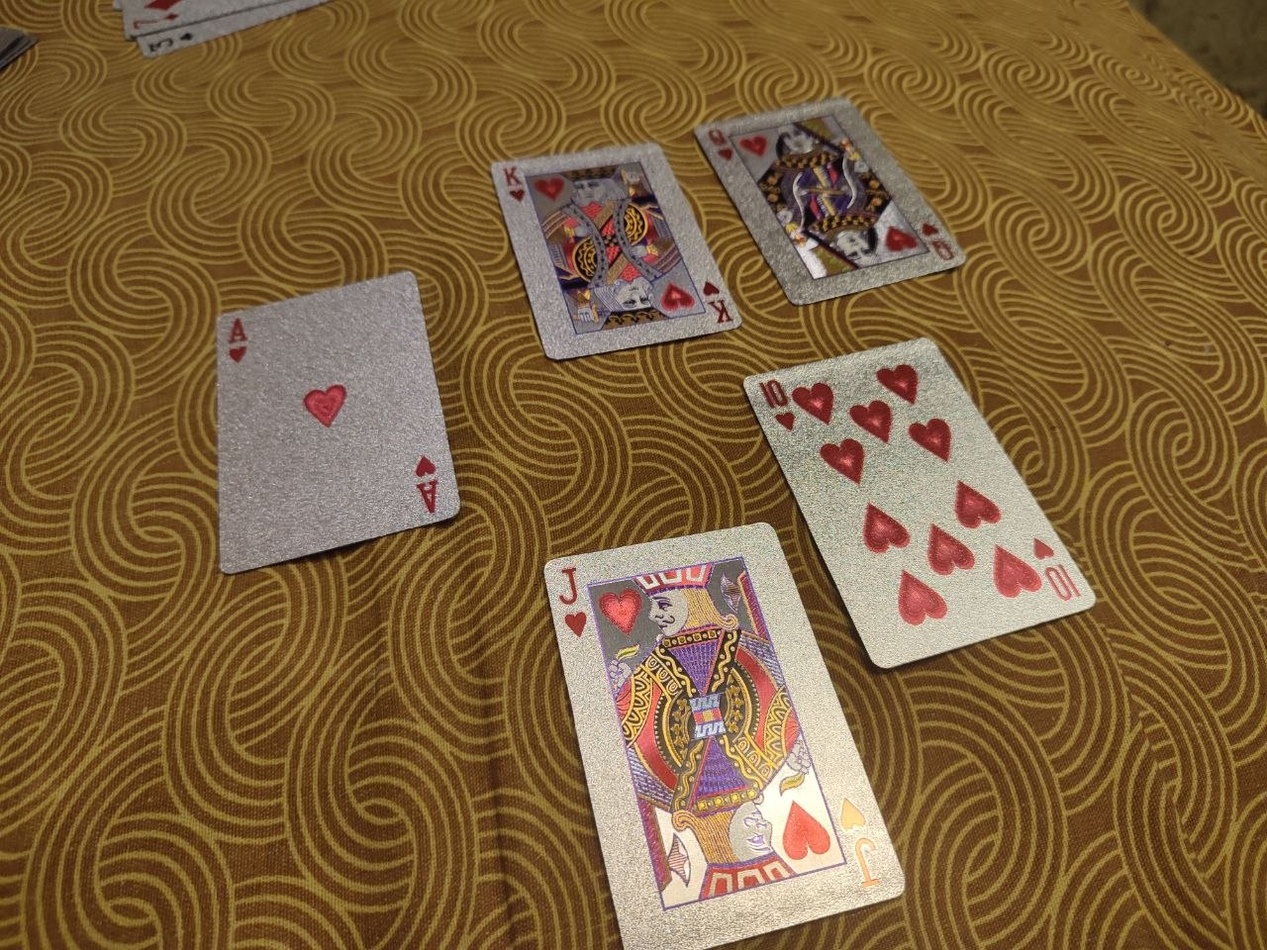10H: (740, 333, 1099, 668)
AH: (212, 269, 463, 577)
JH: (540, 522, 907, 950)
KH: (489, 139, 743, 359)
QH: (693, 97, 969, 304)
